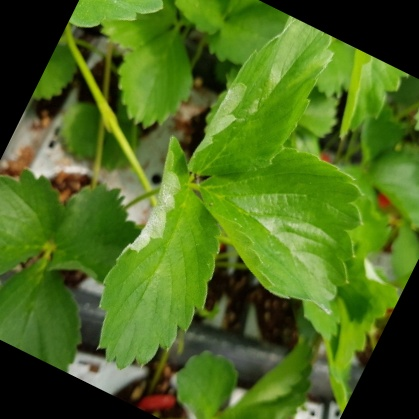Powdery_Leaf: (188, 115, 368, 257), (142, 160, 248, 394), (169, 0, 253, 182)
